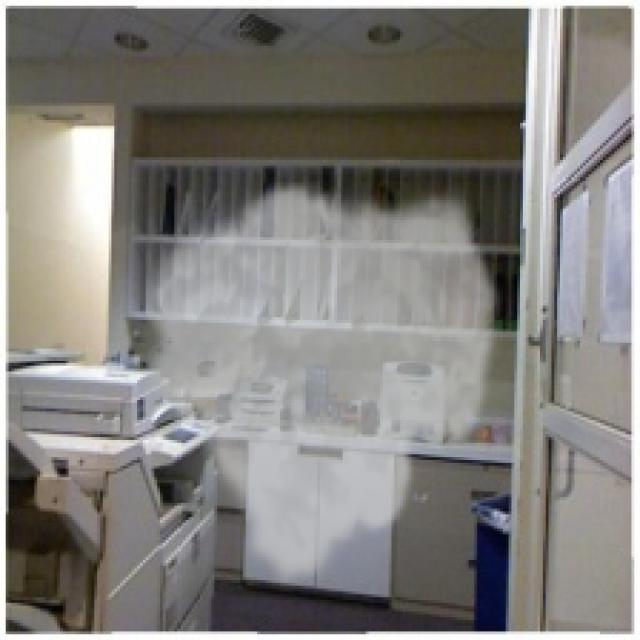smoke: (134, 177, 506, 592)
